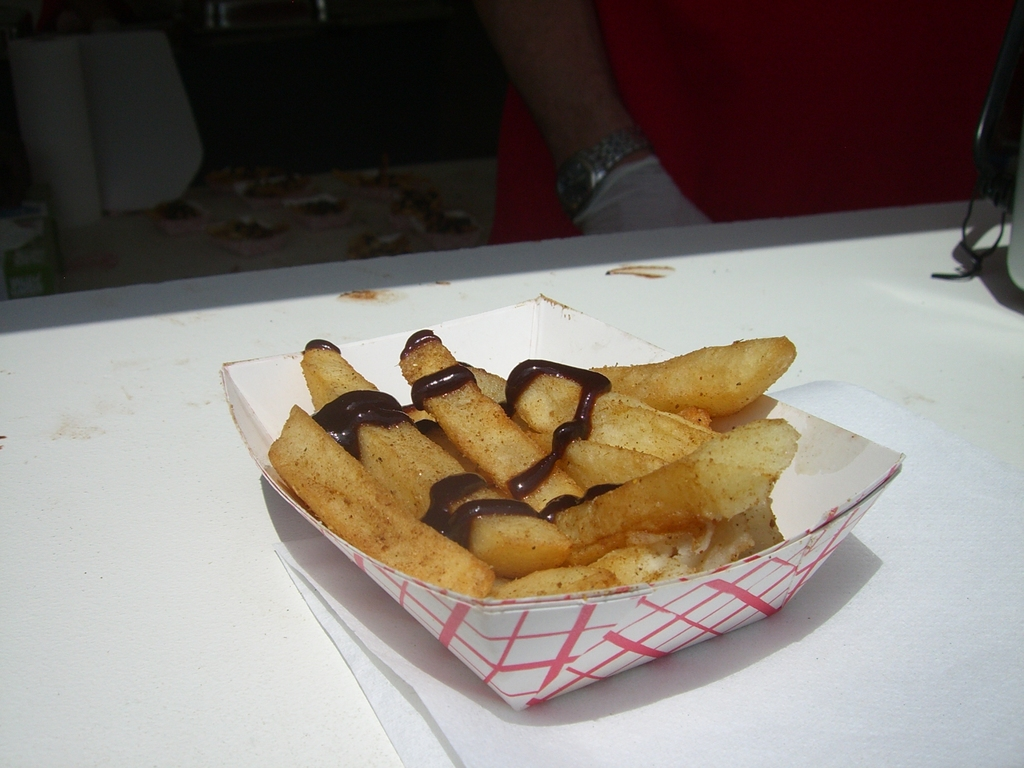French fries: (266, 334, 856, 631)
